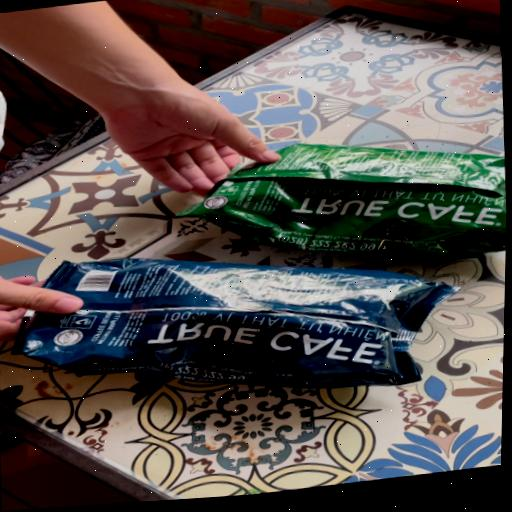cafe_hat: (14, 258, 458, 389)
cafe_xay: (181, 144, 506, 257)
